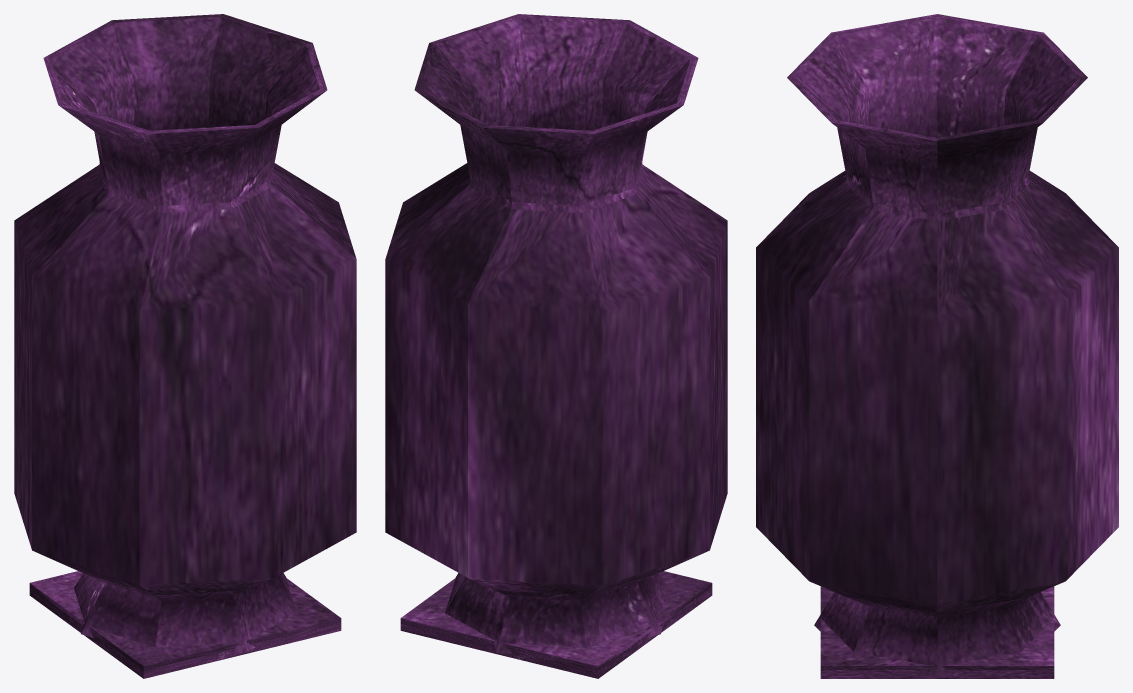
Rendered from myjarron2.fbx.
3 renders of one model, left to right at view 1: azimuth 30°, elevation 25°; view 2: azimuth 150°, elevation 25°; view 3: azimuth 270°, elevation 25°, orthographic. The views are drawn at different scales.
Parts seen in each view (by area): view 1: polySurface1; view 2: polySurface1; view 3: polySurface1.
Part boxes in pixels (box(x1,y1,x2,y2)): polySurface1: box(14, 14, 356, 678); polySurface1: box(385, 14, 727, 678); polySurface1: box(756, 14, 1118, 678).
Bounding box in the file's own units: 20.24 × 33.98 × 20.24.
1 material, 1 textured.
